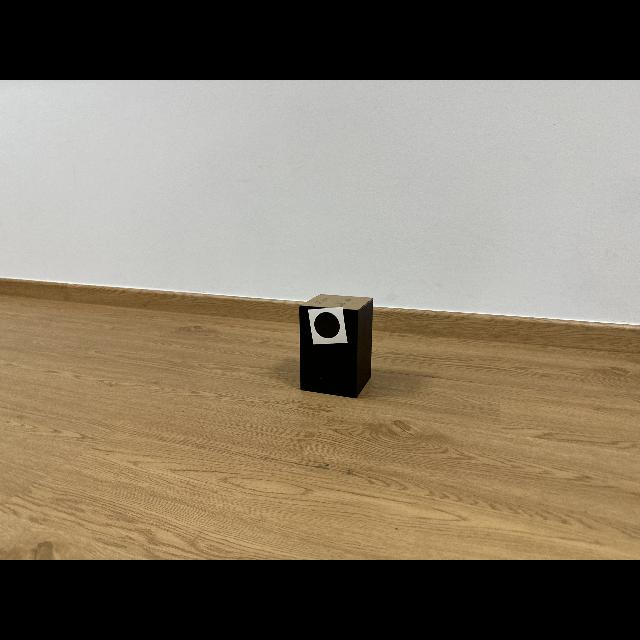CIRCLE: (314, 312, 340, 339)
